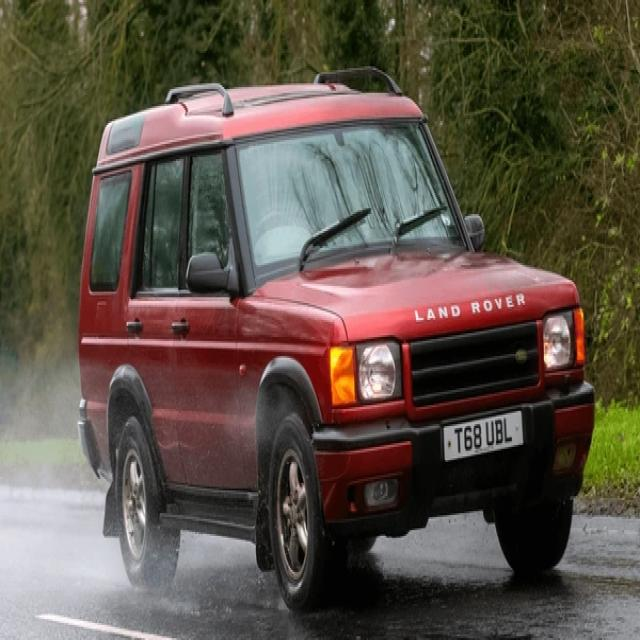landrover: (410, 288, 530, 328)
